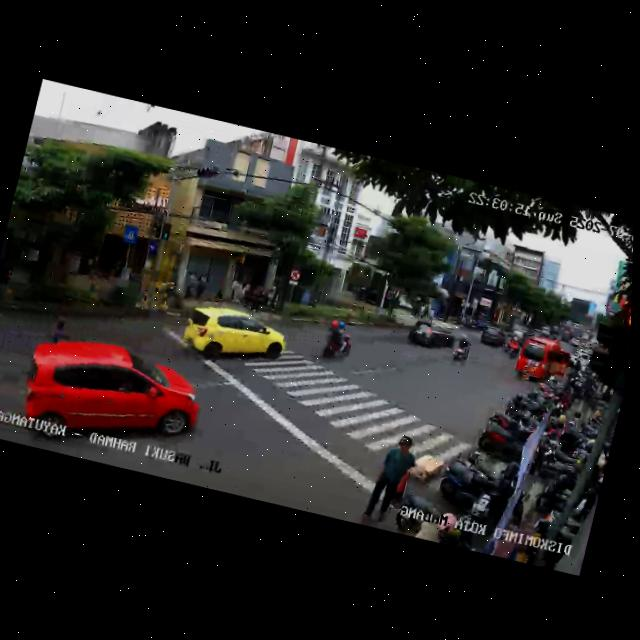car: (10, 322, 211, 475), (176, 295, 292, 381), (512, 332, 578, 392), (405, 314, 460, 356), (476, 324, 507, 350)
motorcycle: (315, 317, 356, 365), (448, 333, 474, 368)
person: (364, 429, 423, 528)
